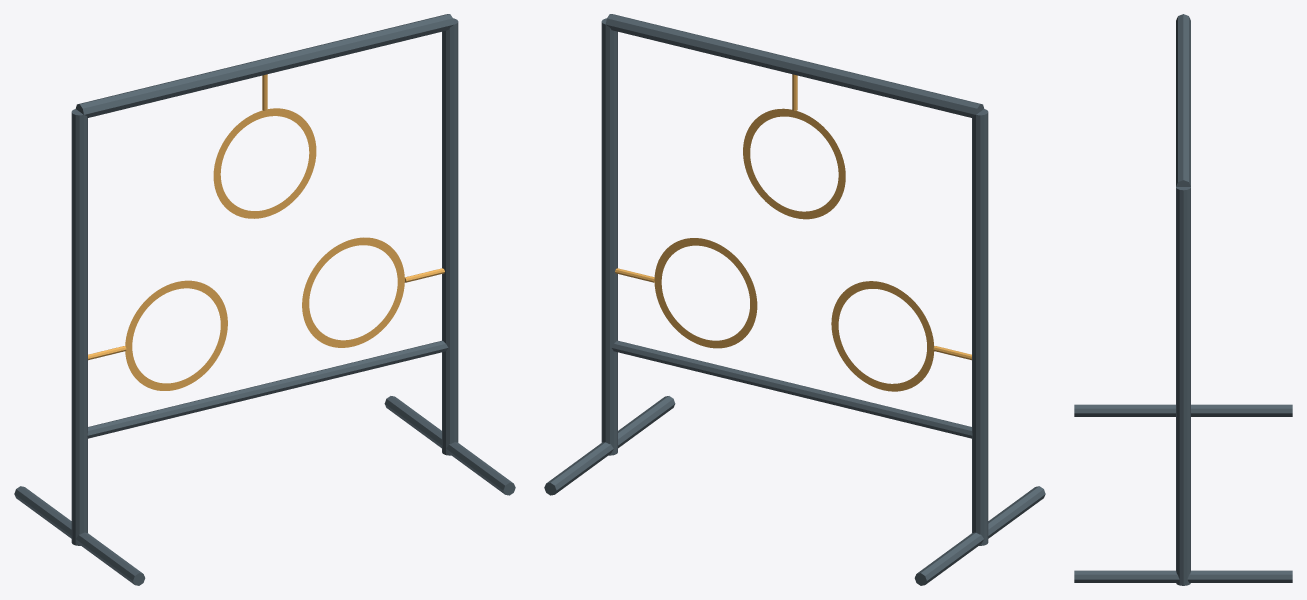
File: american-football-stadium-kit-quarterback-target-bc46beb7__22377.glb
3 views of the same model, side by side, from view 1: azimuth 30°, elevation 25°; view 2: azimuth 150°, elevation 25°; view 3: azimuth 270°, elevation 25° (orthographic). The views are drawn at different scales.
Visible parts, largest first — view 1: quarterback-target; view 2: quarterback-target; view 3: quarterback-target.
Boxes of the visible parts, x1=… form: quarterback-target: x1=14, y1=14, x2=515, y2=585; quarterback-target: x1=544, y1=14, x2=1045, y2=585; quarterback-target: x1=1074, y1=14, x2=1292, y2=585.
Size of the model in its own units: 1.87 by 2.04 by 1.
